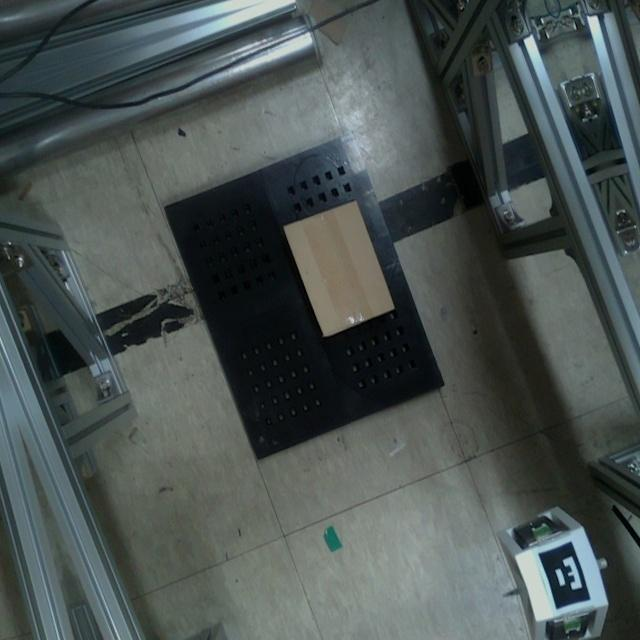box: (277, 194, 400, 346)
pallet: (155, 126, 454, 470)
